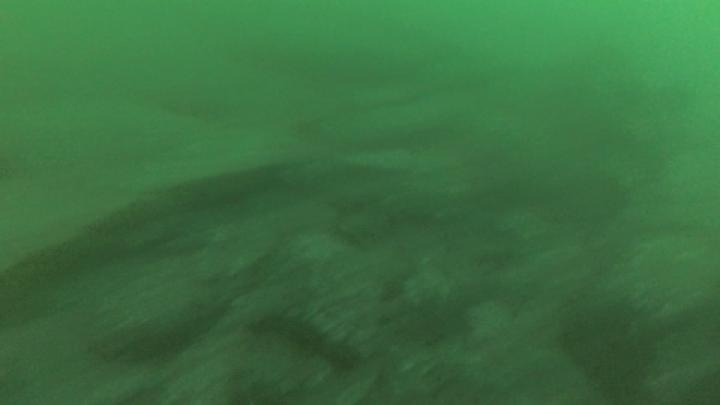holothurian: (244, 300, 365, 371)
